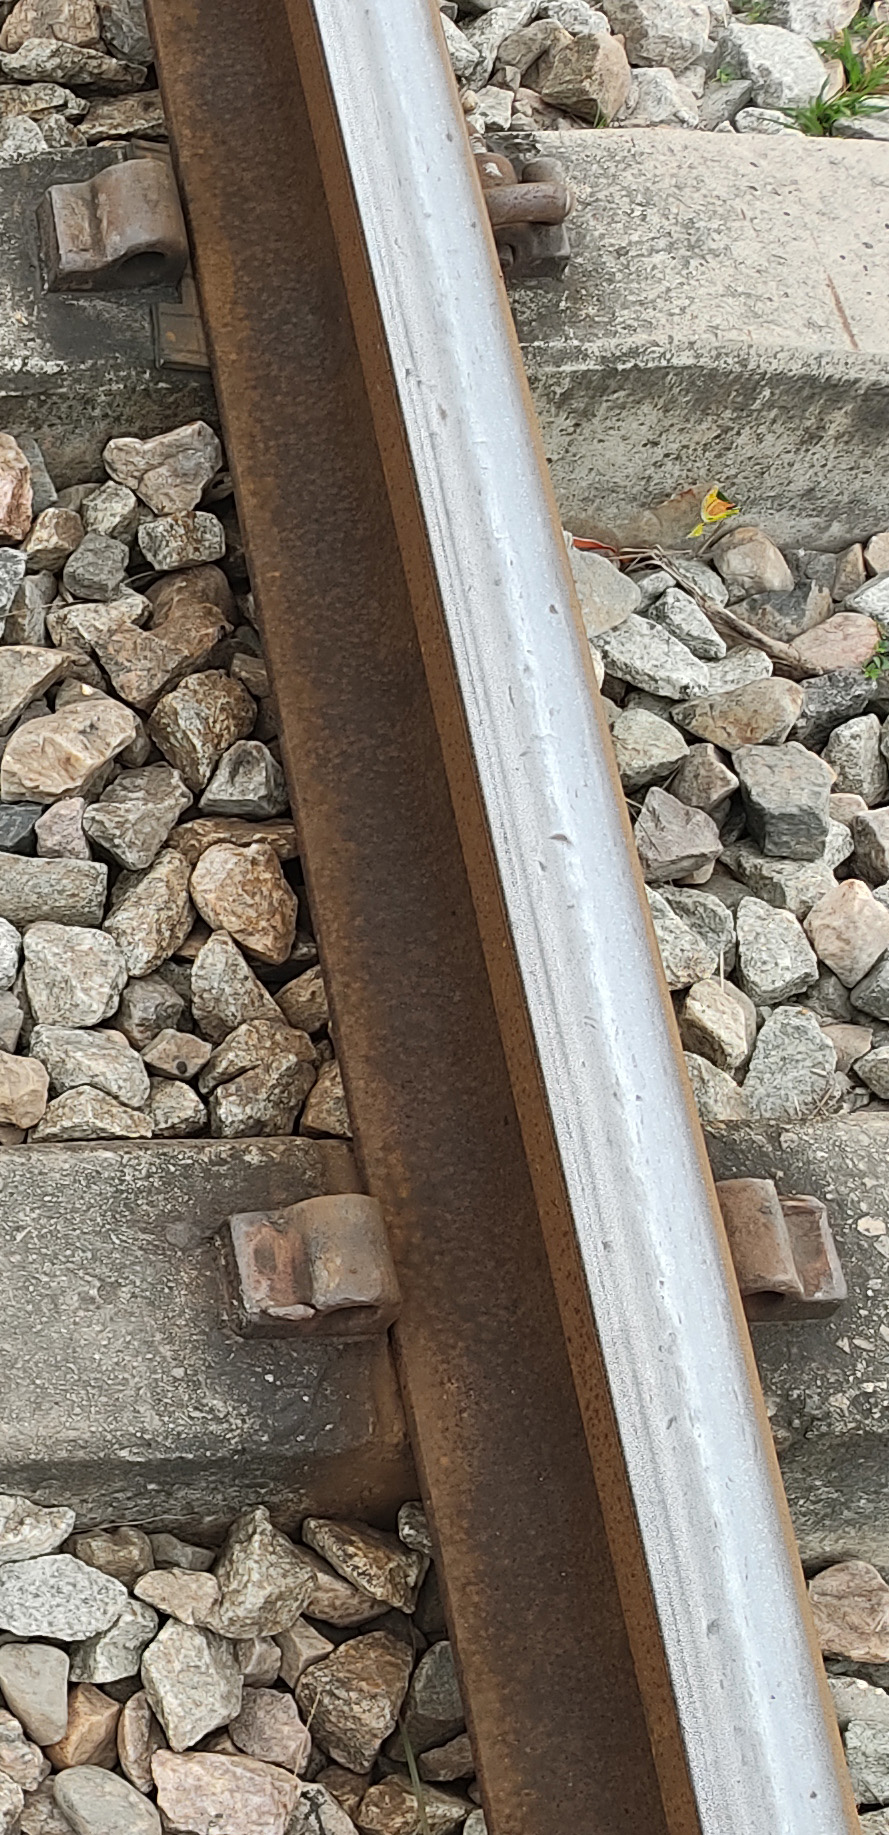error1: (188, 1120, 433, 1437), (15, 117, 259, 374), (680, 1100, 888, 1398), (456, 103, 664, 330)
